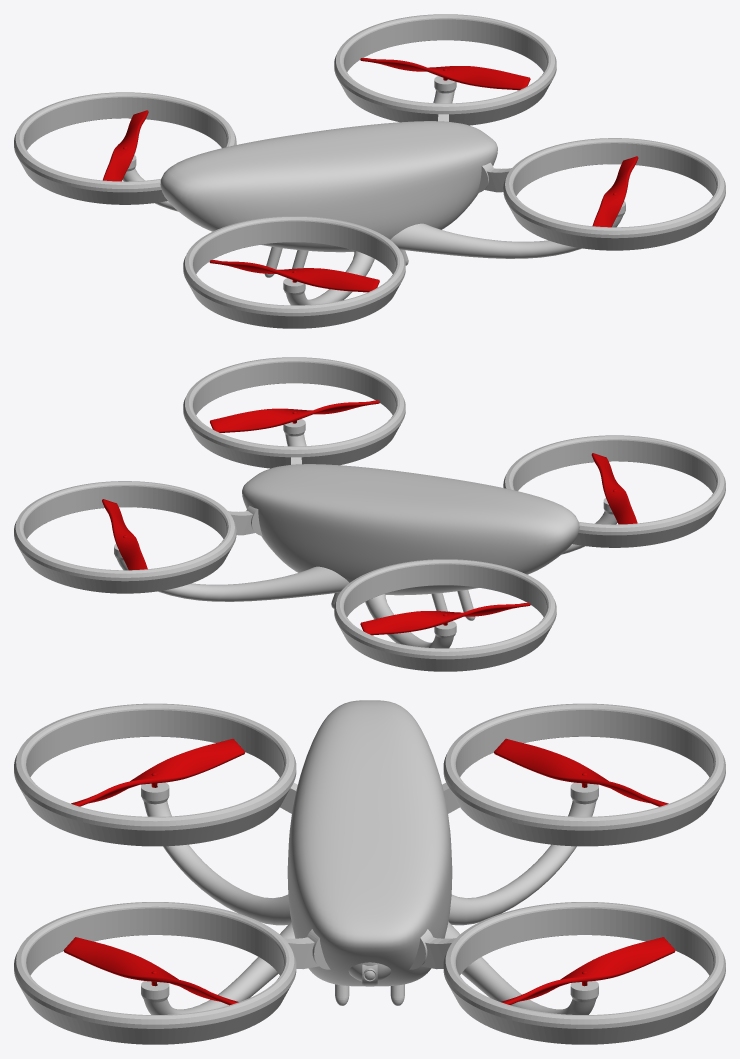
File: quadrocopter.obj
3 renders of one model, top to bottom at view 1: azimuth 30°, elevation 25°; view 2: azimuth 150°, elevation 25°; view 3: azimuth 270°, elevation 25°, orthographic. The views are drawn at different scales.
Parts seen in each view (by area): view 1: Cylinder.010, Cube, Cylinder.002, Cylinder.009, Cylinder.005, Cylinder.001, Cylinder.007, Cylinder.006, Cylinder.008; view 2: Cylinder.010, Cube, Cylinder.002, Cylinder.006, Cylinder.007, Cylinder.001, Cylinder.009, Cylinder.005, Cylinder.008; view 3: Cylinder.010, Cube, Cylinder.001, Cylinder.002, Cylinder.005, Cylinder.009, Cylinder.006, Cylinder.007, Cylinder.004.
Part boxes in pixels (box(x1,y1,x2,y2)): Cylinder.010: box(14, 14, 725, 328); Cube: box(160, 121, 497, 252); Cylinder.002: box(390, 91, 623, 258); Cylinder.009: box(209, 260, 379, 292); Cylinder.005: box(360, 58, 530, 90); Cylinder.001: box(122, 168, 374, 305); Cylinder.007: box(103, 110, 148, 181); Cylinder.006: box(592, 156, 638, 227); Cylinder.008: box(264, 247, 308, 277); Cylinder.010: box(14, 357, 725, 671); Cube: box(242, 464, 579, 595); Cylinder.002: box(116, 434, 349, 601); Cylinder.006: box(210, 400, 379, 432); Cylinder.007: box(360, 603, 530, 635); Cylinder.001: box(365, 511, 617, 648); Cylinder.009: box(591, 453, 637, 524); Cylinder.005: box(102, 499, 147, 570); Cylinder.008: box(431, 590, 475, 620); Cylinder.010: box(14, 703, 725, 1044); Cube: box(287, 700, 452, 986); Cylinder.001: box(143, 801, 596, 925); Cylinder.002: box(144, 921, 595, 1014); Cylinder.005: box(501, 937, 675, 1004); Cylinder.009: box(71, 739, 245, 806); Cylinder.006: box(63, 937, 238, 1005); Cylinder.007: box(494, 738, 668, 806); Cylinder.004: box(335, 984, 404, 1005).
Size of the model in its own units: 8.1 by 2.08 by 7.68.
